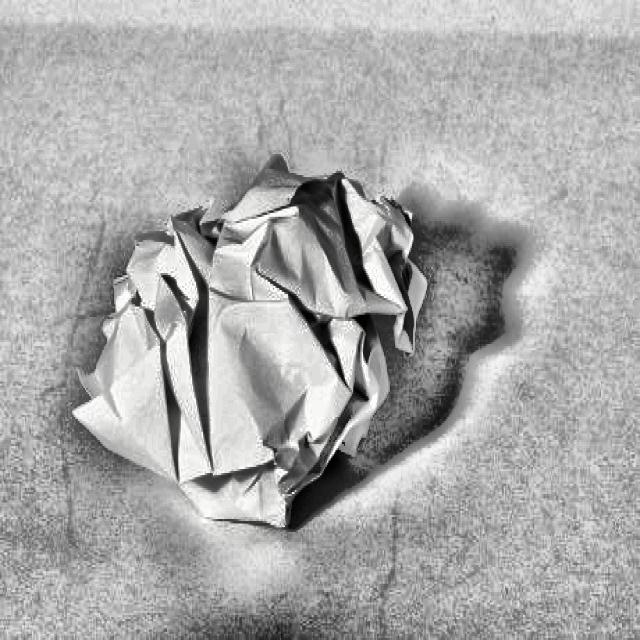Paper: (70, 143, 447, 551)
